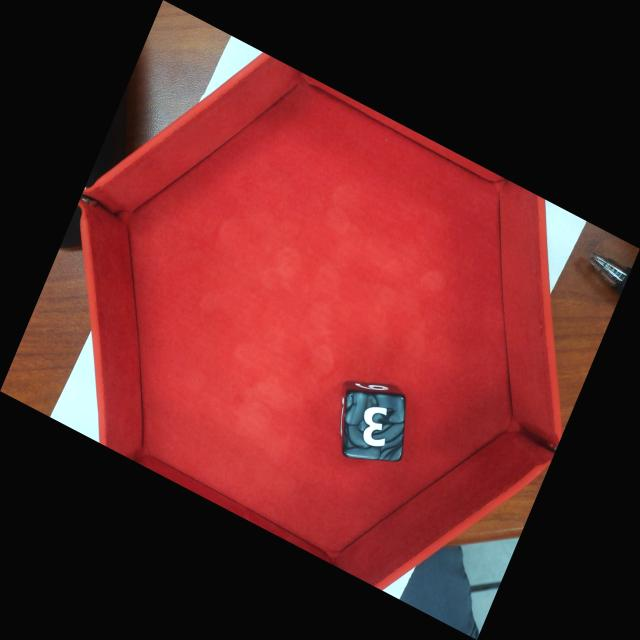dice: (341, 390, 409, 464)
